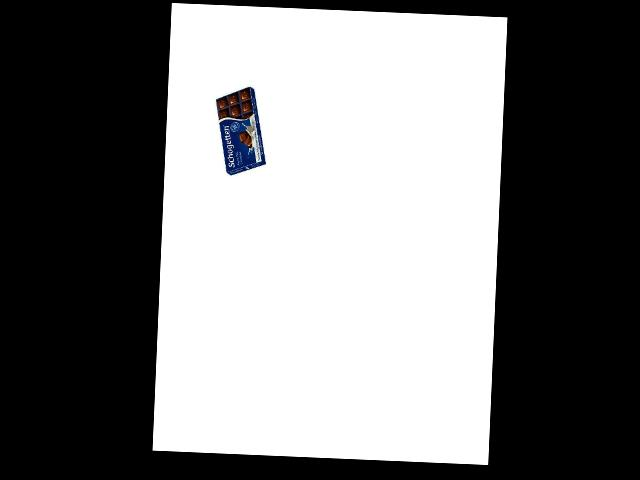chocolate: (212, 84, 261, 178)
